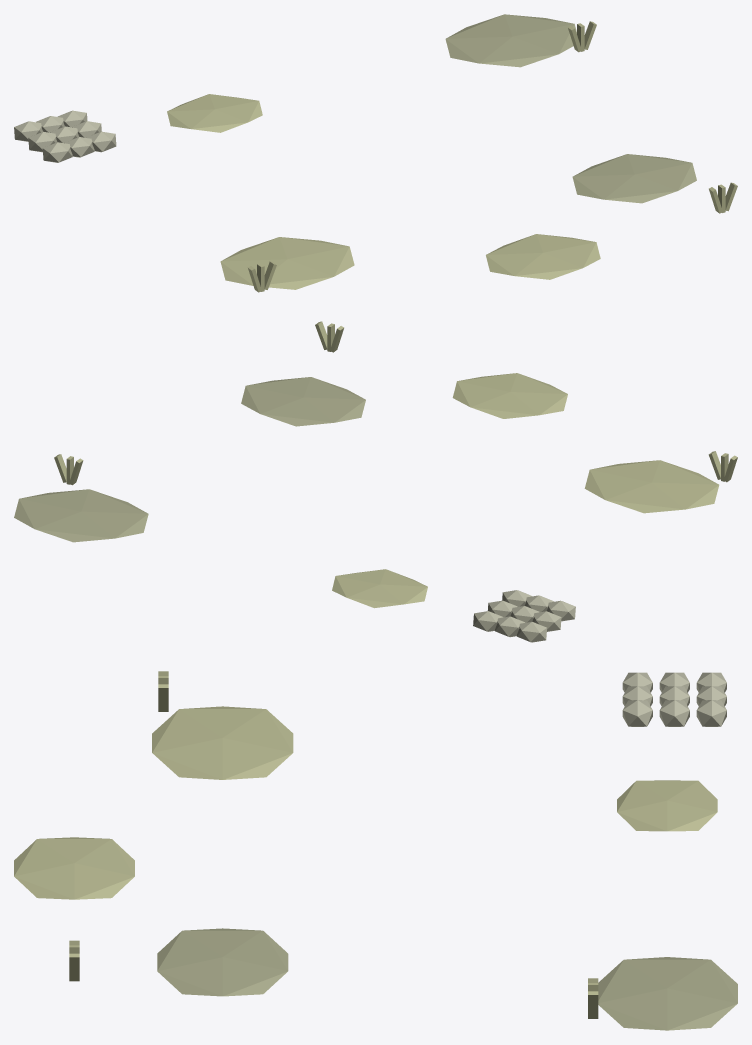
Rendered from slice_terrain.glb.
3 renders of one model, top to bottom at view 1: azimuth 30°, elevation 25°; view 2: azimuth 150°, elevation 25°; view 3: azimuth 270°, elevation 25°, orthographic. The views are drawn at different scales.
Parts seen in each view (by area): view 1: Ground_patch.003, Ground_patch, Ground_patch.001, Ground_patch.004, Ground_patch.002, Small_stone; view 2: Ground_patch, Ground_patch.003, Ground_patch.001, Ground_patch.004, Ground_patch.002; view 3: Ground_patch, Ground_patch.003, Ground_patch.001, Ground_patch.004, Ground_patch.002, Small_stone.005, Small_stone.002, Small_stone.008.
Boxes of the visible parts, bbox=[...] form: Ground_patch.003: bbox=[445, 14, 576, 67]; Ground_patch: bbox=[220, 237, 354, 289]; Ground_patch.001: bbox=[572, 154, 696, 203]; Ground_patch.004: bbox=[486, 234, 600, 279]; Ground_patch.002: bbox=[167, 94, 262, 132]; Small_stone: bbox=[42, 142, 72, 162]; Ground_patch: bbox=[584, 460, 719, 513]; Ground_patch.003: bbox=[14, 489, 148, 542]; Ground_patch.001: bbox=[241, 377, 365, 426]; Ground_patch.004: bbox=[452, 373, 567, 418]; Ground_patch.002: bbox=[332, 569, 427, 608]; Ground_patch: bbox=[152, 706, 293, 779]; Ground_patch.003: bbox=[598, 957, 737, 1030]; Ground_patch.001: bbox=[157, 928, 288, 996]; Ground_patch.004: bbox=[14, 837, 134, 899]; Ground_patch.002: bbox=[617, 780, 717, 831]; Small_stone.005: bbox=[659, 700, 689, 726]; Small_stone.002: bbox=[622, 700, 652, 726]; Small_stone.008: bbox=[696, 700, 726, 726].
Size of the model in its own units: 5.47 by 0.3 by 4.88.
